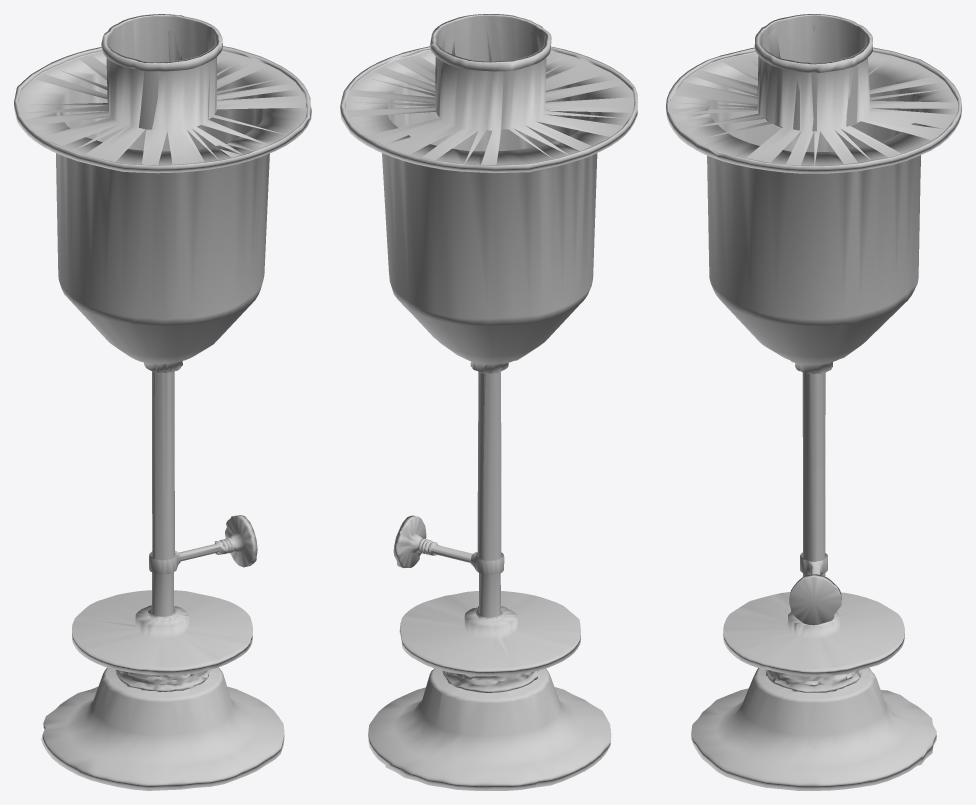
Rendered from rain-gauge.glb.
The picture shows the model from 3 angles, left to right: view 1: azimuth 30°, elevation 25°; view 2: azimuth 150°, elevation 25°; view 3: azimuth 270°, elevation 25°; orthographic projection.
Size of the model in its own units: 0.3637 by 0.9507 by 0.3637.
1 material, 1 textured.
